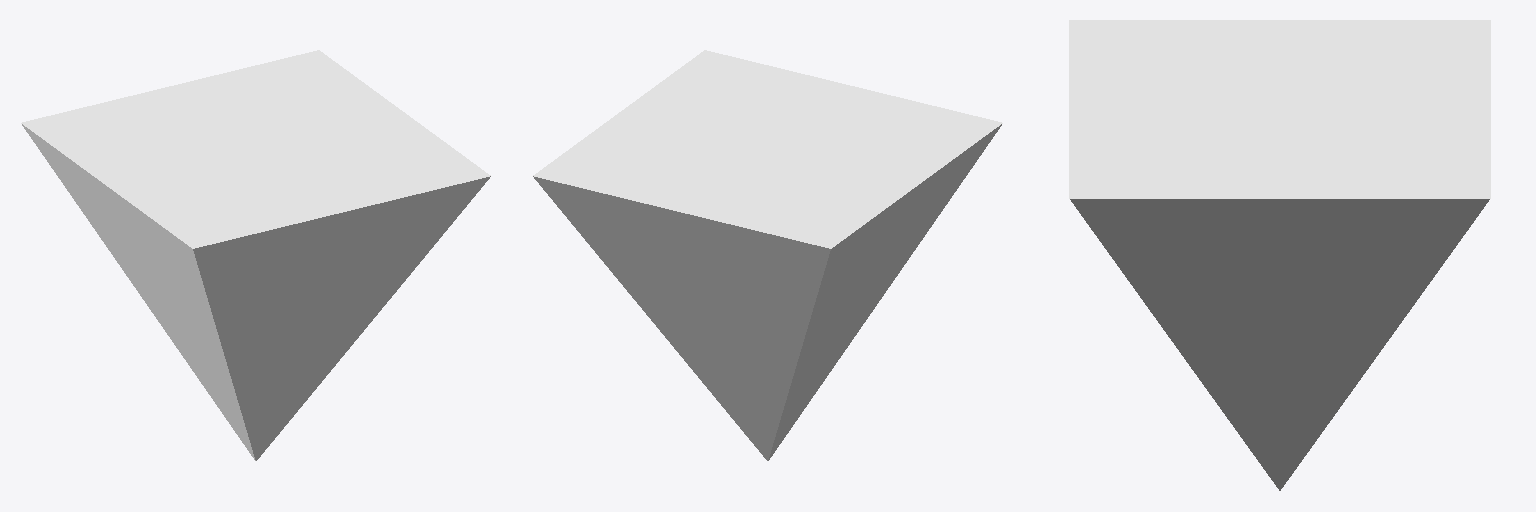
URDF robot description (cube):
<?xml version="1.0" ?>
<robot name="cube">
  <link name="baseLink">
    <contact>
      <lateral_friction value="1.0"/>
      <rolling_friction value="0.0"/>
      <contact_cfm value="0.0"/>
      <contact_erp value="1.0"/>
    </contact>
    <inertial>
      <origin rpy="0 0 0" xyz="0 0 0"/>
       <mass value="1.0"/>
       <inertia ixx="1" ixy="0" ixz="0" iyy="1" iyz="0" izz="1"/>
    </inertial>
    <visual>
      <origin rpy="0 0 0" xyz="0 0 0"/>
      <geometry>
				<mesh filename="camera_mesh.obj" scale="0.05 0.05 0.05"/>
      </geometry>
       <material name="white">
        <color rgba="1 1 1 1"/>
      </material>
    </visual>
    <collision>
      <origin rpy="0 0 0" xyz="0 0 0"/>
      <geometry>
	 	<box size="1 1 1"/>
      </geometry>
    </collision>
  </link>
</robot>

--- What the picture shows (computed from the rendered views, not written in the file) ---
The picture shows the robot from 3 angles, left to right: view 1: azimuth 30°, elevation 25°; view 2: azimuth 150°, elevation 25°; view 3: azimuth 270°, elevation 25°; orthographic projection.
Robot: cube — 1 links, 0 joints (none); root link baseLink; default pose: every joint at zero.
Visible links, largest first — view 1: baseLink; view 2: baseLink; view 3: baseLink.
Link boxes in pixels (x1=…): baseLink: x1=21, y1=50, x2=490, y2=460; baseLink: x1=533, y1=50, x2=1002, y2=460; baseLink: x1=1069, y1=20, x2=1490, y2=490.
Size in the robot's own frame: 0.05 by 0.05 by 0.05 metres.
Meshes: 1 distinct files referenced, 1 mesh visuals loaded (1 OBJ).